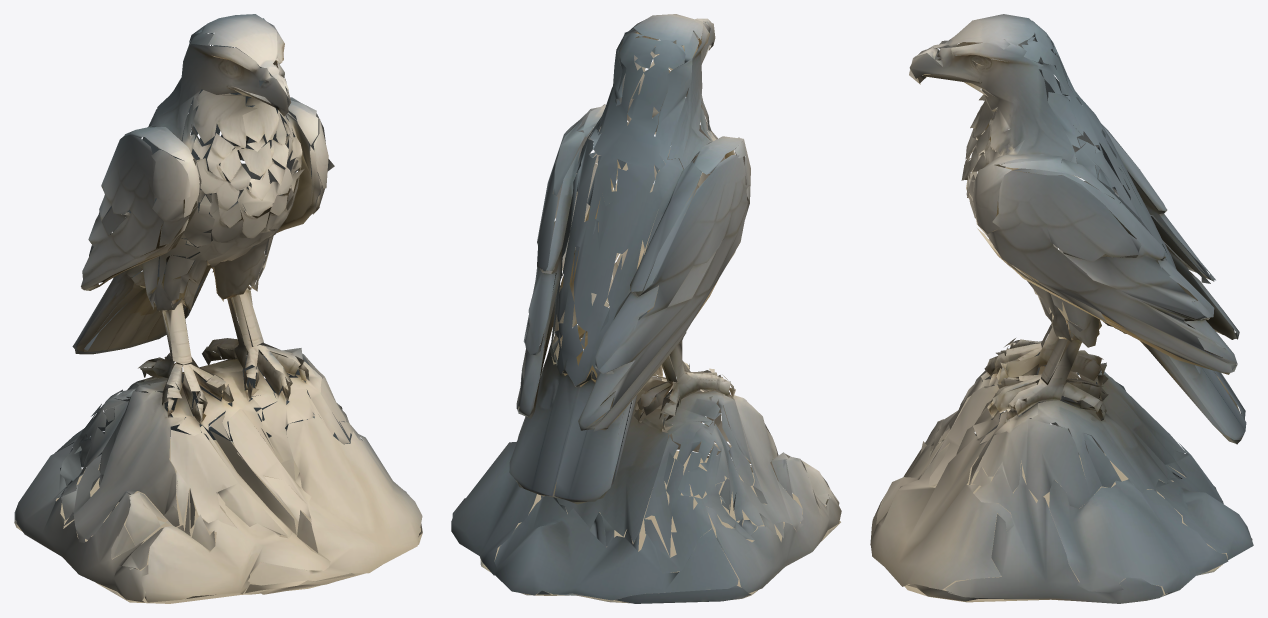
Rendered from mountain-statue.glb.
3 views of the same model, side by side, from view 1: azimuth 30°, elevation 25°; view 2: azimuth 150°, elevation 25°; view 3: azimuth 270°, elevation 25° (orthographic). The views are drawn at different scales.
Parts seen in each view (by area): view 1: node_0; view 2: node_0; view 3: node_0.
Part boxes in pixels (box(x1,y1,x2,y2)): node_0: box(14, 14, 422, 603); node_0: box(451, 14, 841, 603); node_0: box(870, 14, 1253, 603).
Bounding box in the file's own units: 11.5 × 18.08 × 12.35.
1 material, 1 textured.
